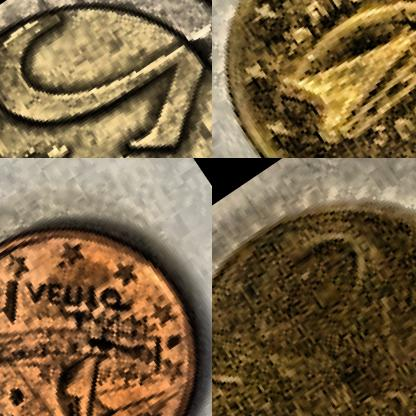coin: (212, 158, 415, 415), (0, 172, 211, 415), (0, 0, 211, 157), (212, 0, 415, 157)
